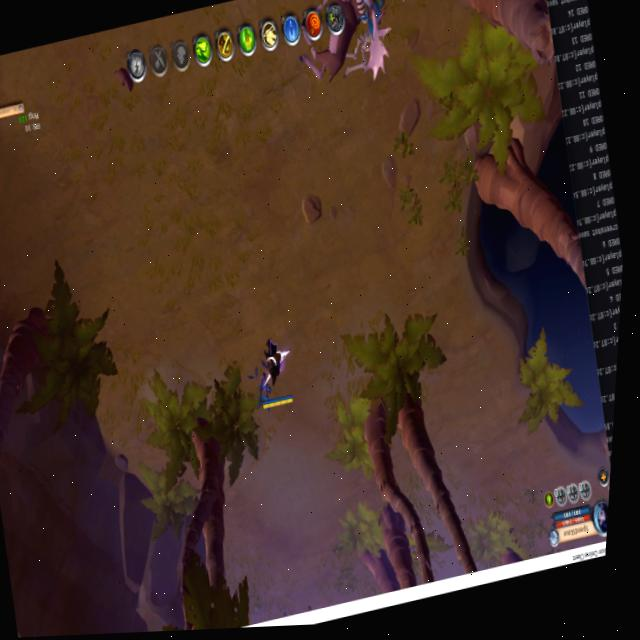mob: (285, 0, 394, 94)
red: (246, 331, 302, 414)
